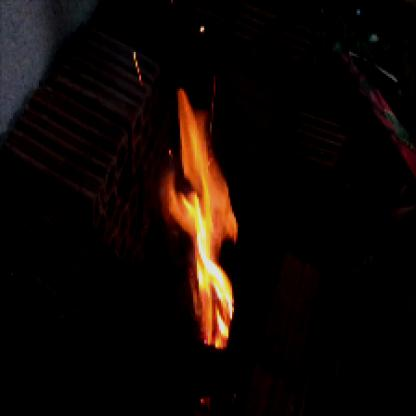Fire: (152, 72, 253, 351)
